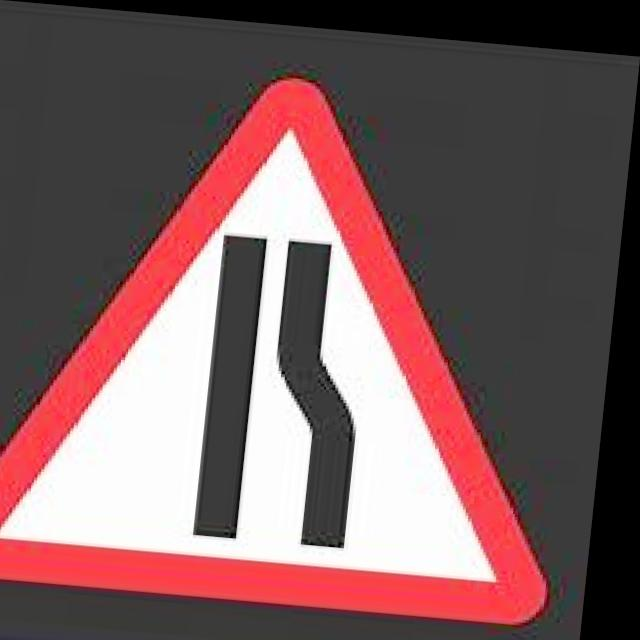NARROW_ROAD_AHEAD: (0, 52, 599, 616)
